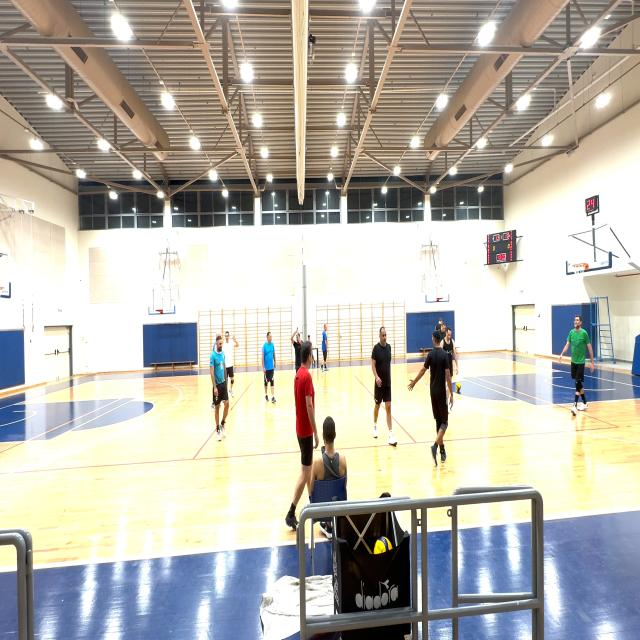volleyball: (373, 536, 393, 555), (455, 382, 461, 391)
